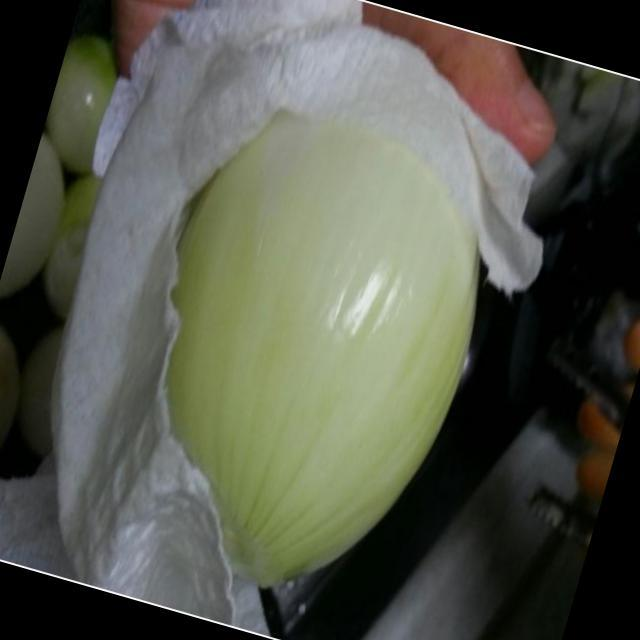Onion: (173, 119, 476, 587)
